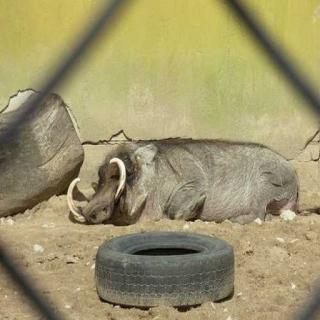Pig: (73, 128, 298, 228)
